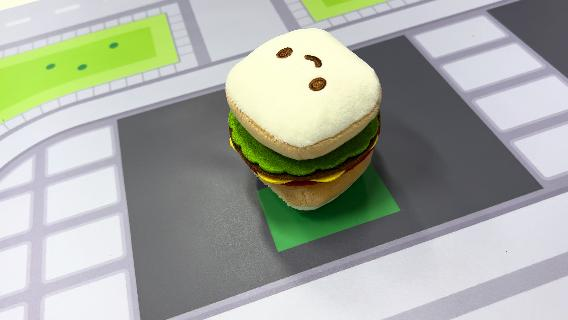sandwich: (222, 26, 386, 212)
